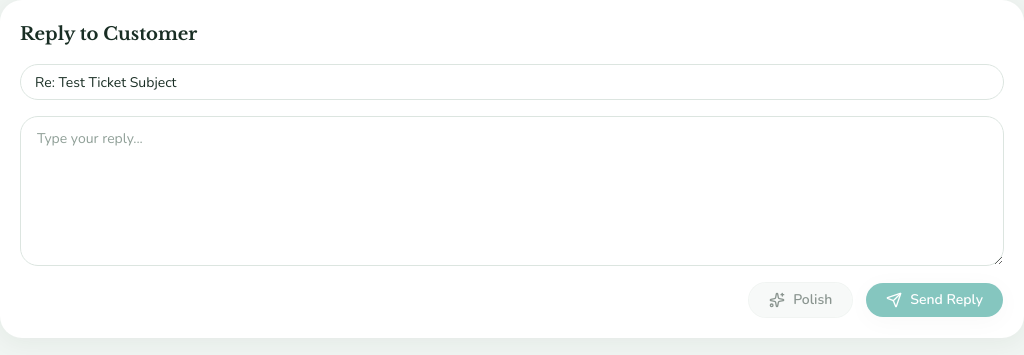
ReplyForm › enables polish button when body has content
Expected: the text "Reply to Customer" is shown, [20, 23, 197, 45]
In the text box with placeholder "Type your reply...": coordinates (512, 191) [20, 116, 1004, 266], type "This is a test reply"
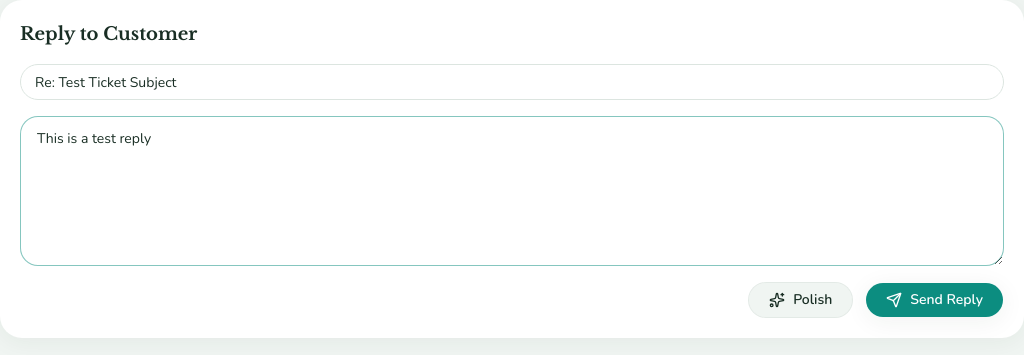
Now the button "Polish" is enabled, box [748, 282, 853, 318]
